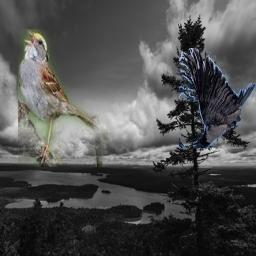Crow: (179, 48, 255, 149)
Sparrow: (18, 29, 108, 167)
